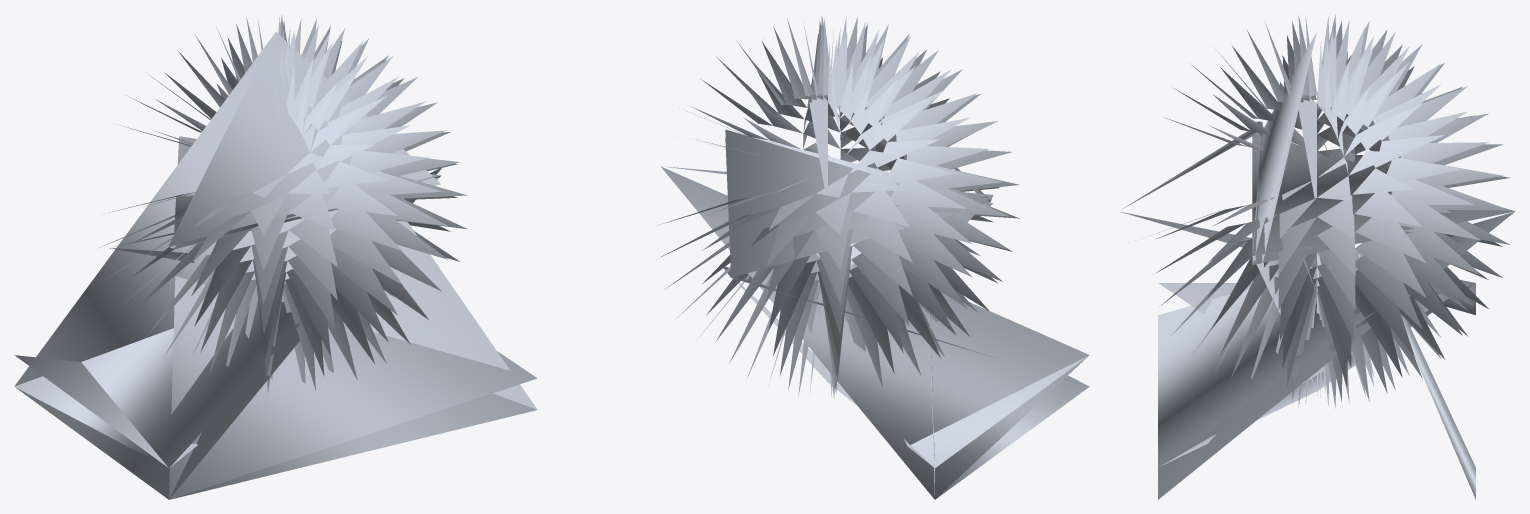
The model's file is ray_optics.glb.
The picture shows the model from 3 angles, left to right: view 1: azimuth 30°, elevation 25°; view 2: azimuth 150°, elevation 25°; view 3: azimuth 270°, elevation 25°; orthographic projection. The views are drawn at different scales.
Parts seen in each view (by area): view 1: tool; view 2: tool; view 3: tool.
Part boxes in pixels (x1,y1,x2,y2): tool: (14, 15, 537, 499); tool: (656, 15, 1089, 499); tool: (1121, 14, 1515, 499).
Size of the model in its own units: 2.2 by 2.09 by 2.
